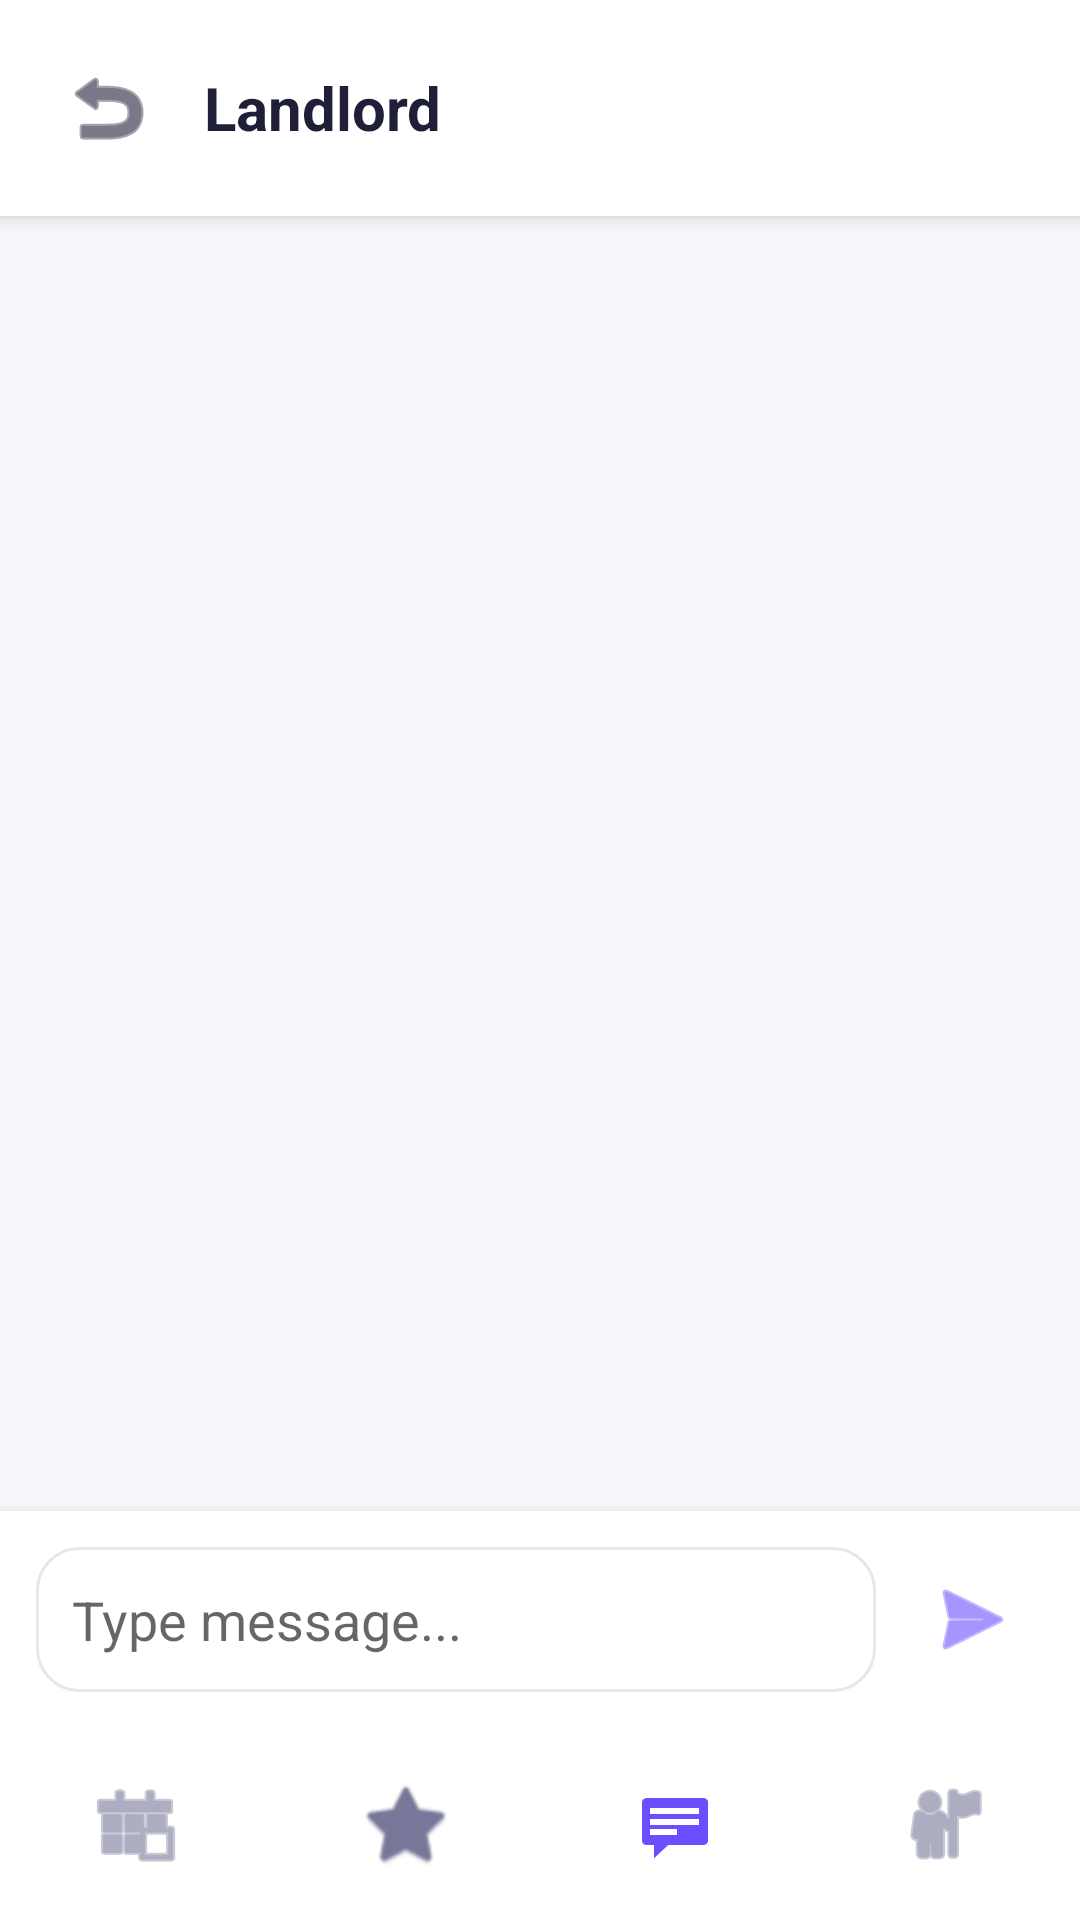

Icons on this 1080px x 1920px Android screen, each with the point to tap as point (x, y):
Back: point (109, 108)
chat: point (675, 1828)
myplaces: point (946, 1824)
Send: point (972, 1619)
star on: point (406, 1824)
today: point (136, 1825)
